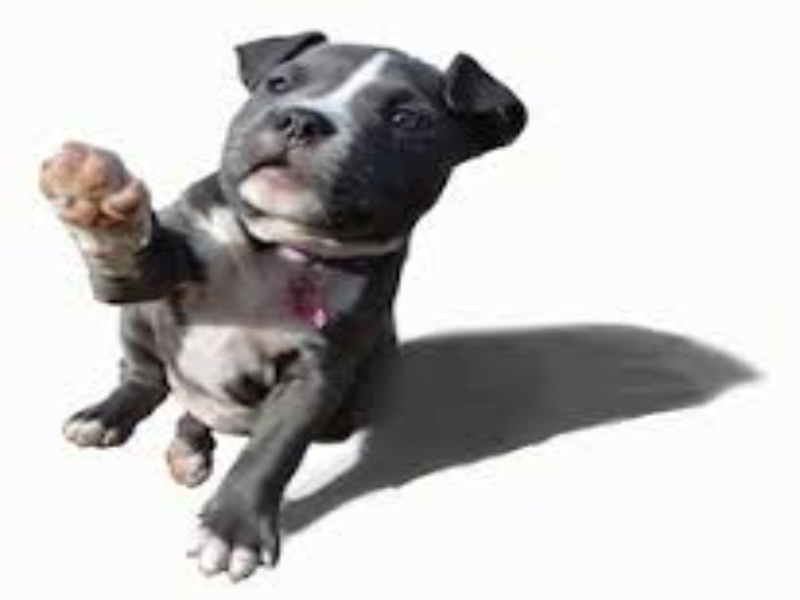dog: (33, 29, 532, 584)
